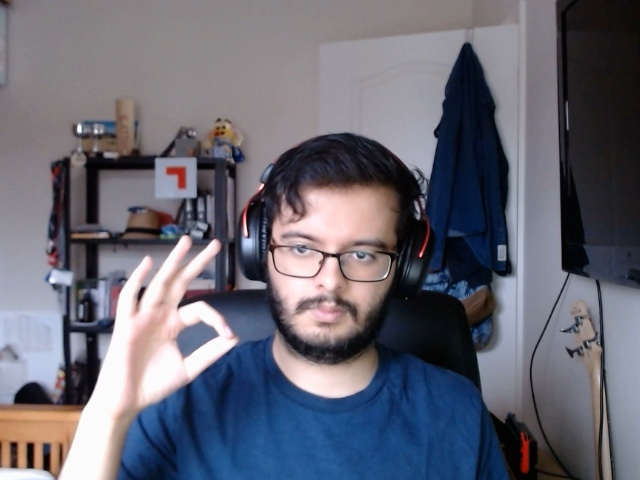Okay: (99, 225, 237, 422)
